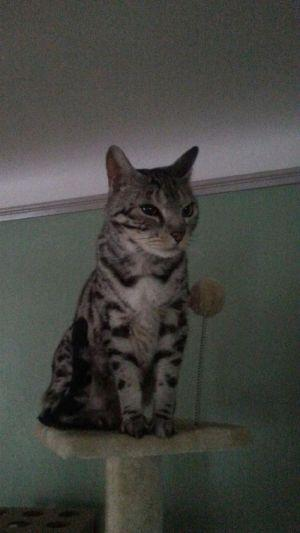bengal: (95, 127, 217, 264)
